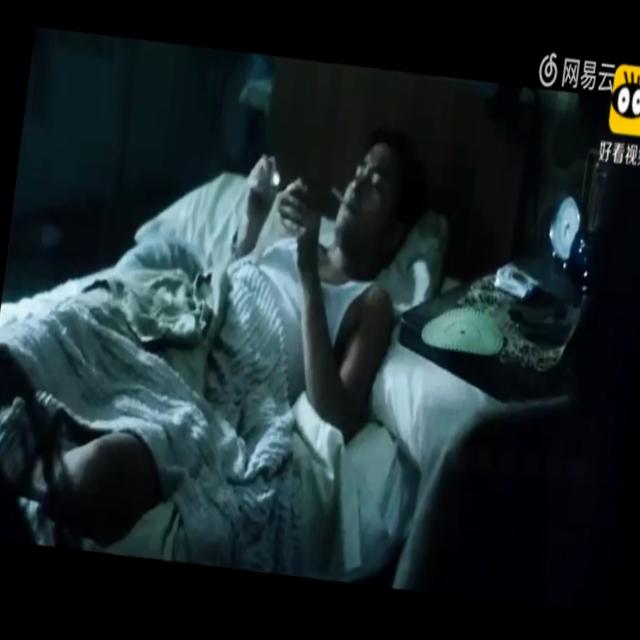smoke: (326, 184, 352, 214)
